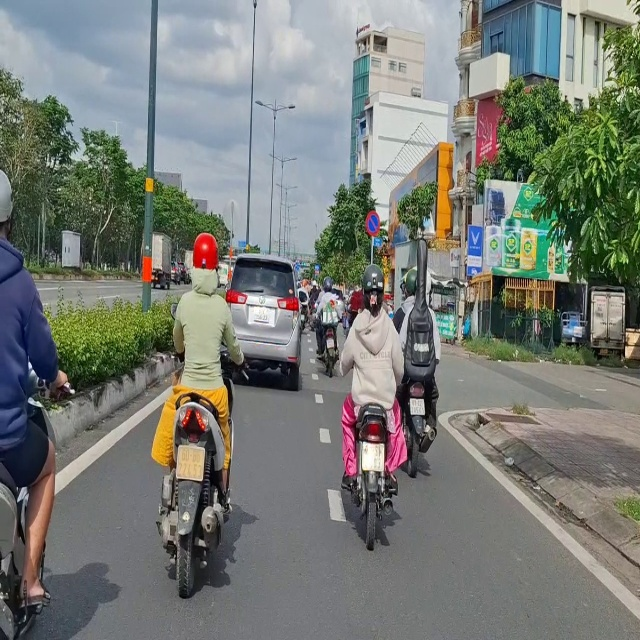cam do xe: (355, 203, 384, 244)
